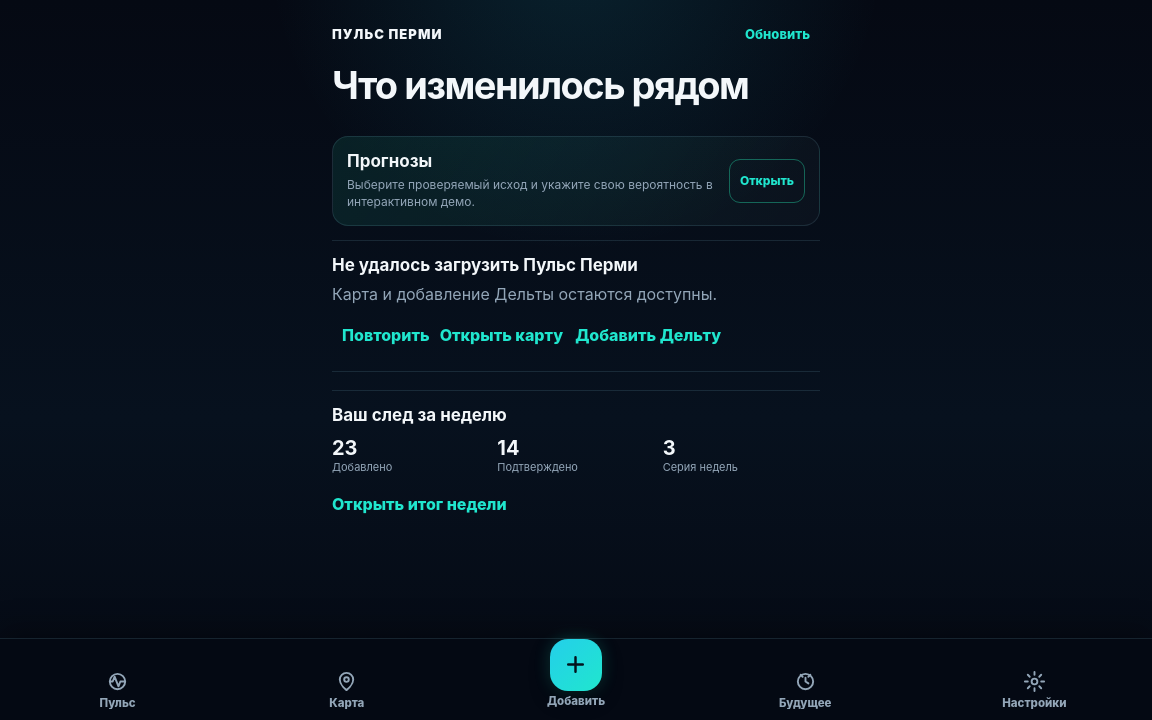
it: MobilePulsePage › clicking city Retry does not reload Wrapped
Step 1. Click the button "Повторить" → click(386, 335), box x1=332 y1=313 x2=440 y2=357
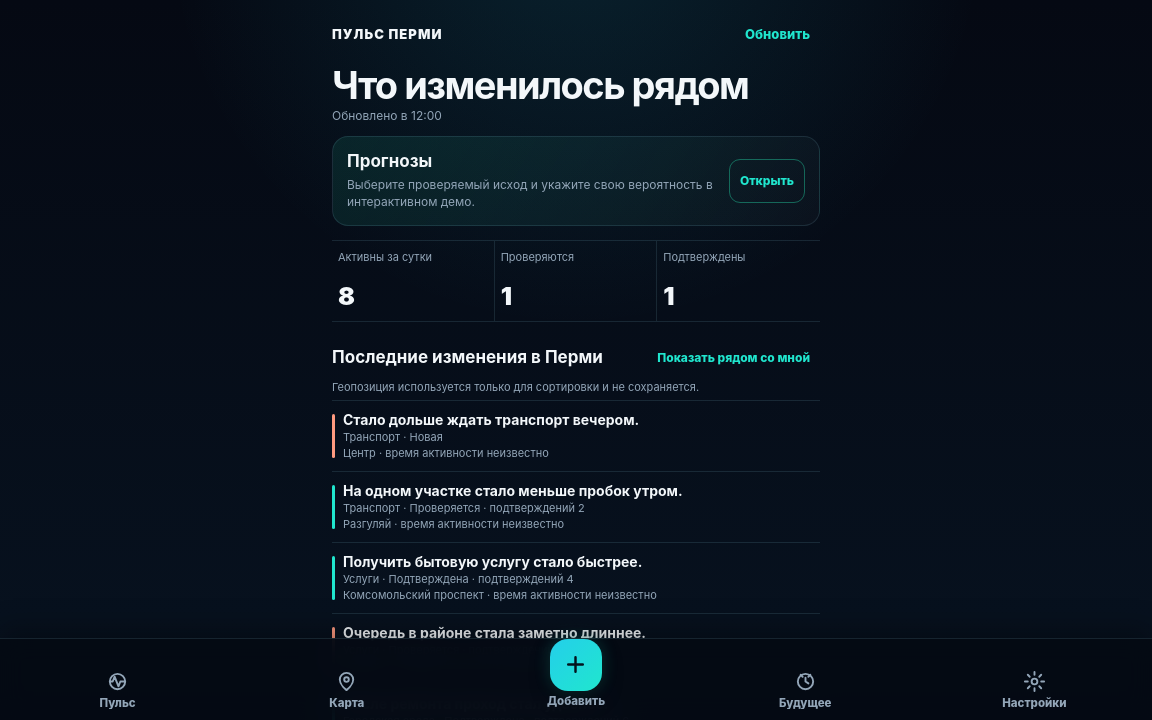
Result: the text "Стало дольше ждать транспорт вечером." is shown at x1=343 y1=411 x2=639 y2=428
